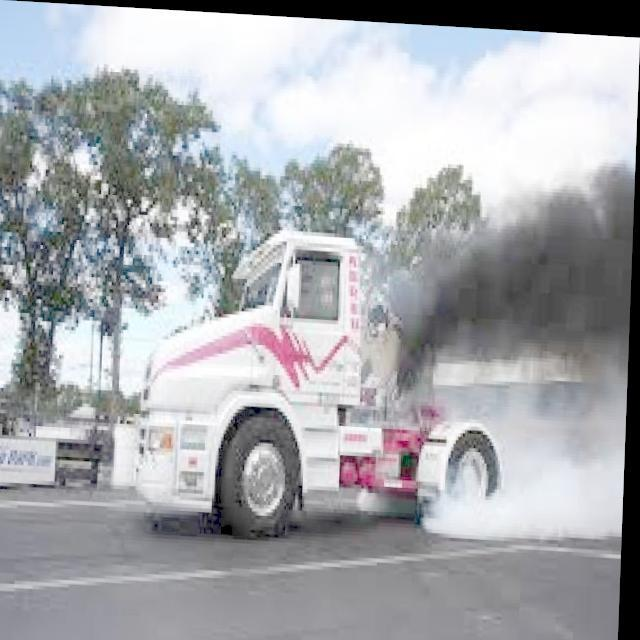Smoke: (372, 153, 636, 417), (422, 357, 631, 548)
